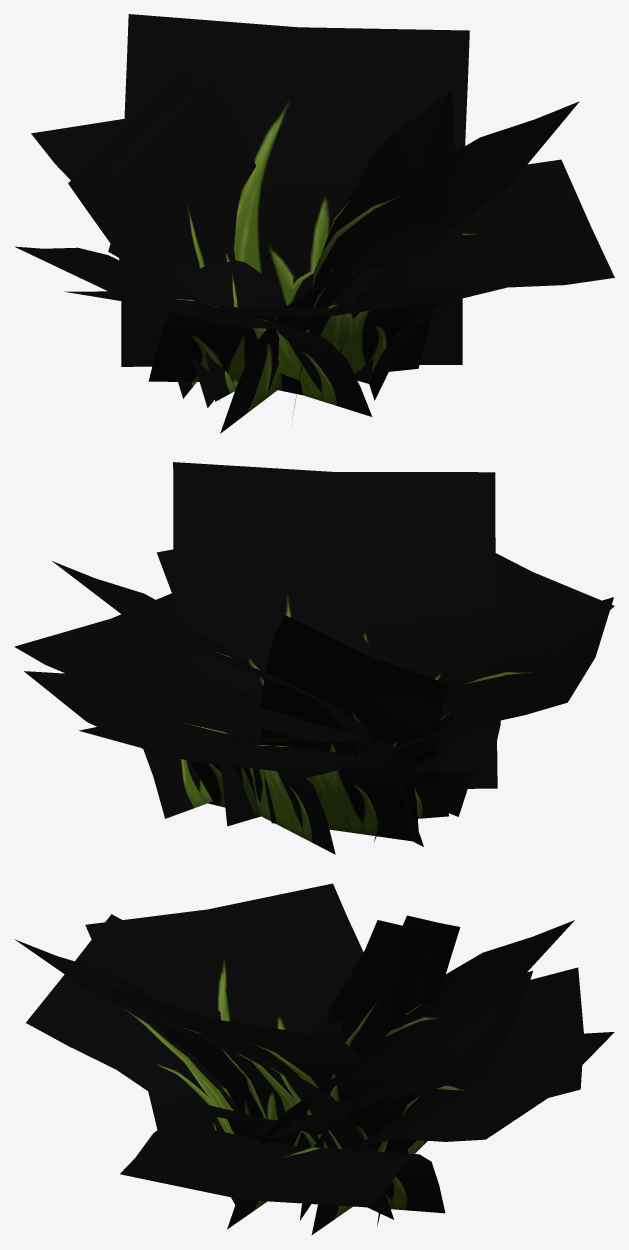
The model's file is Grass_Lush_LOD.fbx.
3 views of the same model, one above another, from view 1: azimuth 30°, elevation 25°; view 2: azimuth 150°, elevation 25°; view 3: azimuth 270°, elevation 25° (orthographic). The views are drawn at different scales.
Visible parts, largest first — view 1: Grass_2_LOD0, Grass_1_LOD0; view 2: Grass_2_LOD0, Grass_1_LOD0; view 3: Grass_2_LOD0, Grass_1_LOD0.
Part boxes in pixels (x1=…): Grass_2_LOD0: x1=31, y1=14, x2=614, y2=433; Grass_1_LOD0: x1=14, y1=78, x2=455, y2=416; Grass_2_LOD0: x1=14, y1=462, x2=614, y2=854; Grass_1_LOD0: x1=103, y1=506, x2=613, y2=830; Grass_2_LOD0: x1=14, y1=914, x2=614, y2=1234; Grass_1_LOD0: x1=85, y1=883, x2=532, y2=1220.
Size of what is drawn, in the model's own units: 108 by 46.83 by 104.
